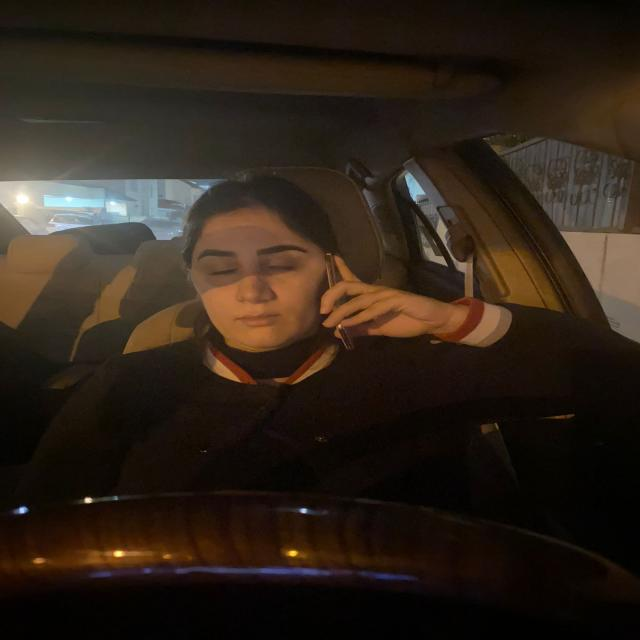mobile: (320, 244, 375, 351)
person: (173, 175, 339, 358)
